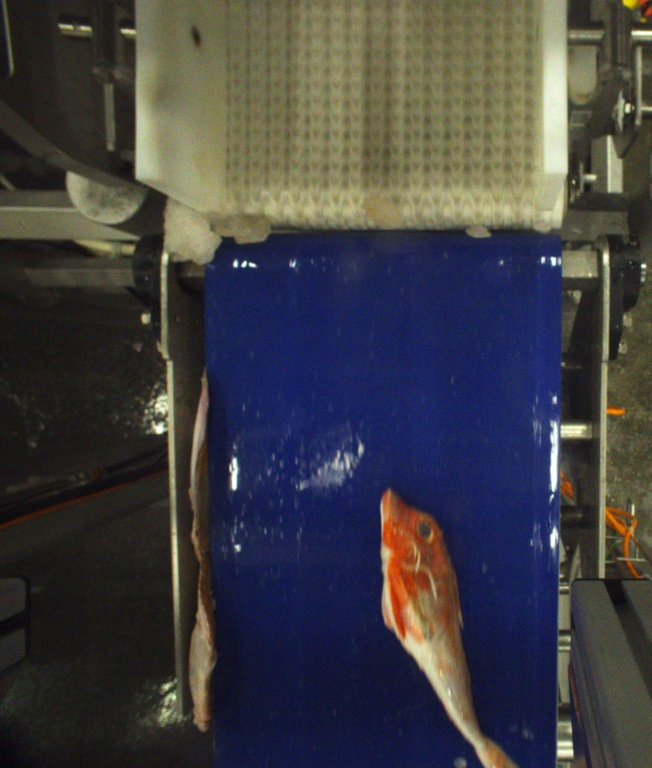GUU: (374, 485, 521, 767)
